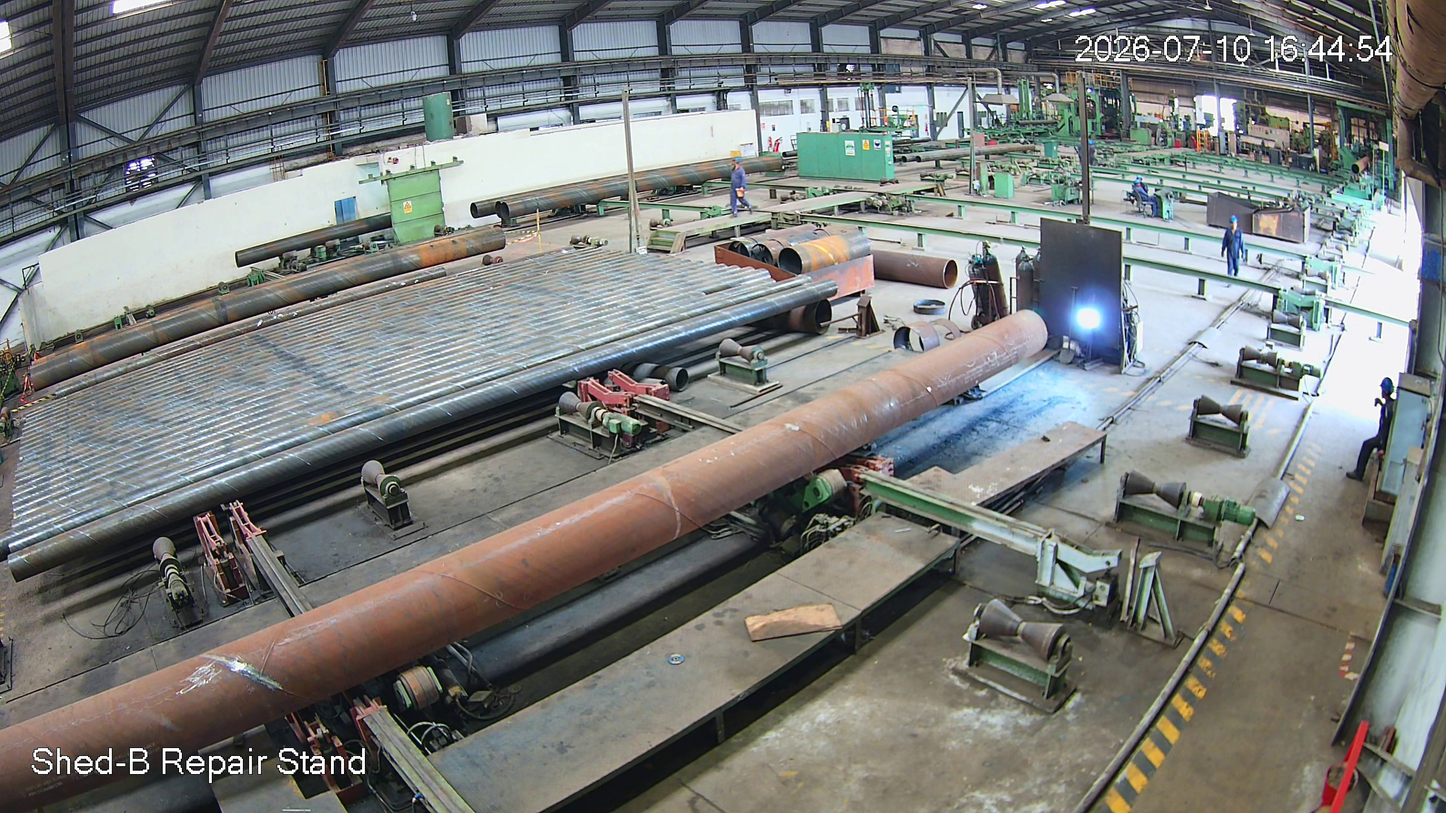Helmet: (1375, 374, 1403, 408), (730, 153, 746, 178), (1226, 213, 1243, 234)
Person: (1350, 377, 1399, 500), (729, 155, 755, 223), (1222, 214, 1248, 282)
